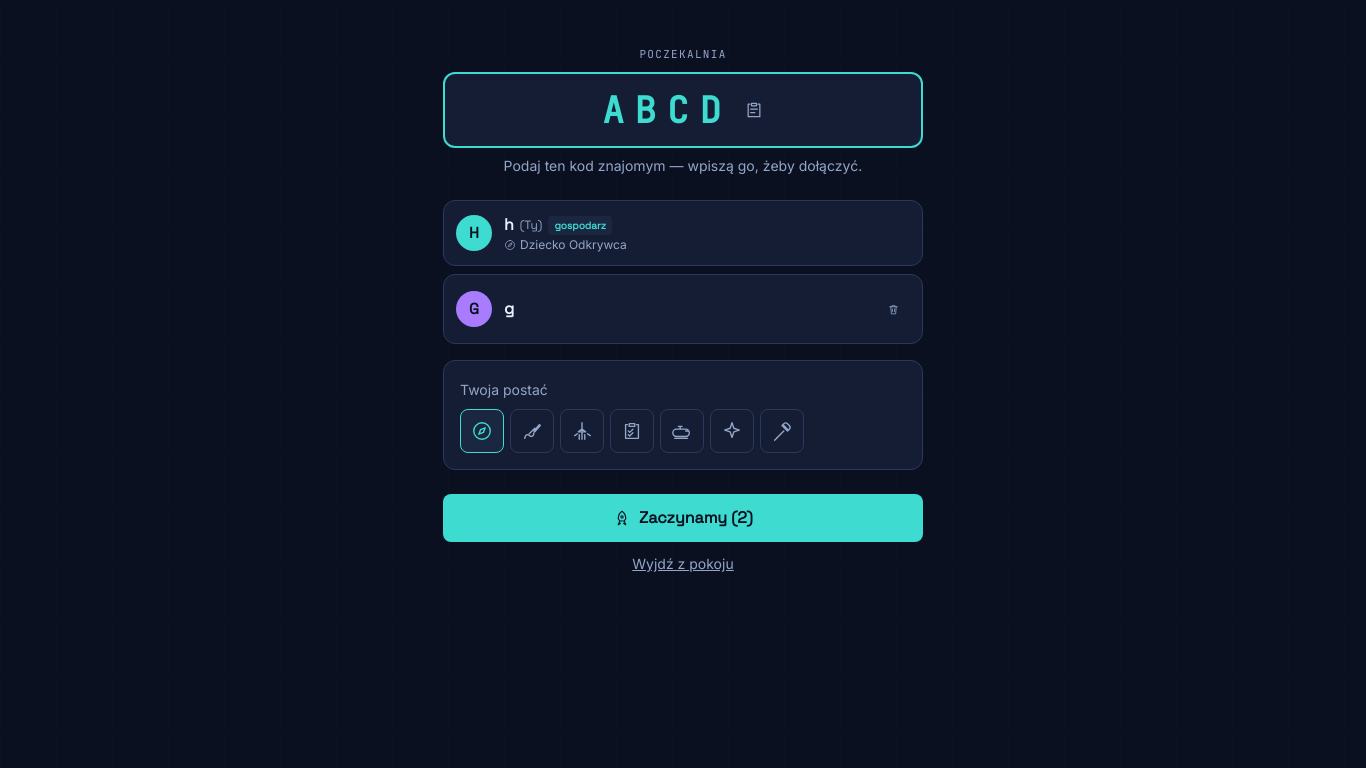
Test: RoomLobby — zmiana postaci pokazuje błąd, gdy zapis się nie uda › nieudany zapis (odrzucona obietnica) kończy się komunikatem, nie ciszą
Click the radio button named "Dziecko Artysta".
click(532, 431)  # box [510,409,554,453]
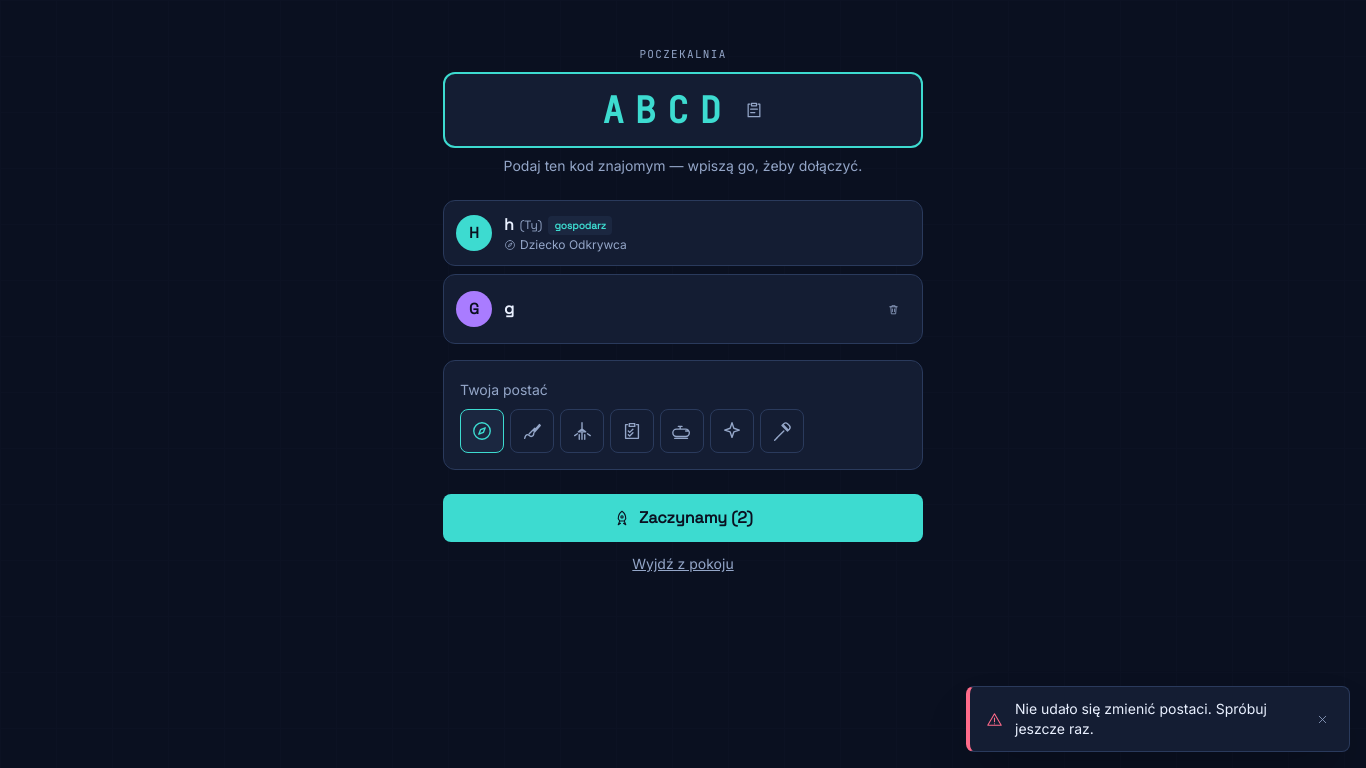
expect the text "Nie udało się zmienić postaci. Spróbuj jeszcze raz." is shown: met, box [1015,699,1300,739]
